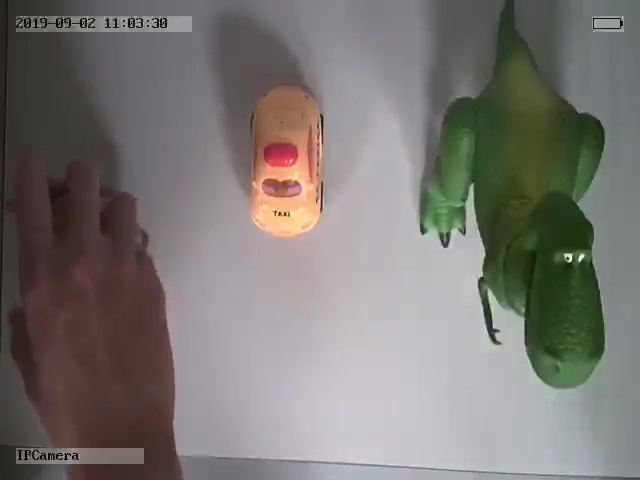car: (249, 82, 325, 238)
rex: (420, 10, 607, 391)
